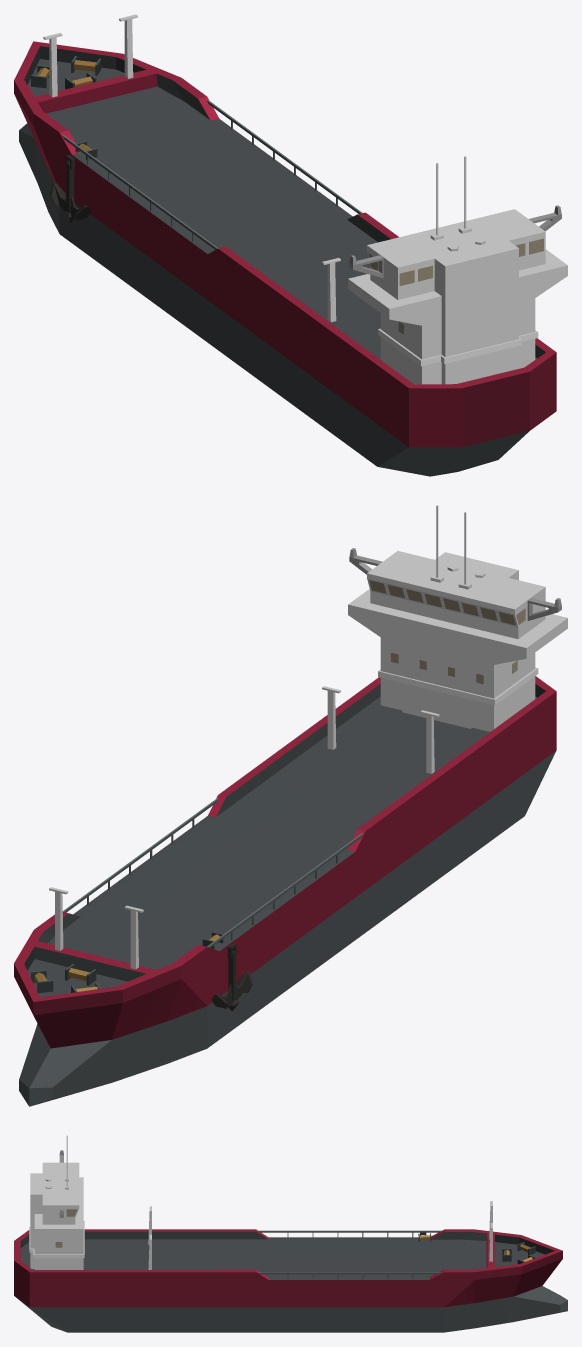
Rendered from LargeShip001.fbx.
3 views of the same model, one above another, from view 1: azimuth 30°, elevation 25°; view 2: azimuth 150°, elevation 25°; view 3: azimuth 270°, elevation 25° (orthographic). The views are drawn at different scales.
Visible parts, largest first — view 1: LargeShip001; view 2: LargeShip001; view 3: LargeShip001.
Part boxes in pixels (left/top/right/bottom): LargeShip001: left=14, top=14, right=567, bottom=476; LargeShip001: left=14, top=505, right=567, bottom=1106; LargeShip001: left=14, top=1135, right=567, bottom=1332.
Size of the model in its own units: 930 by 1307 by 3601.
